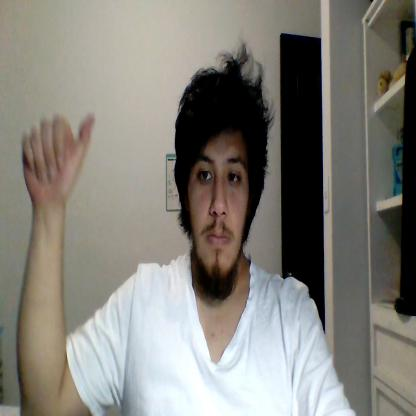A: (21, 113, 95, 203)
